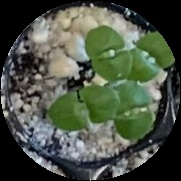Basil: (47, 85, 118, 131), (86, 26, 131, 79), (129, 28, 175, 79), (117, 83, 152, 141)
